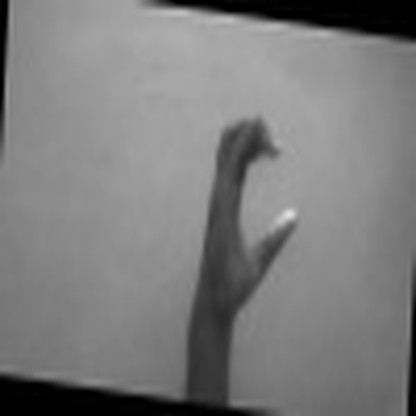c: (187, 108, 308, 303)
